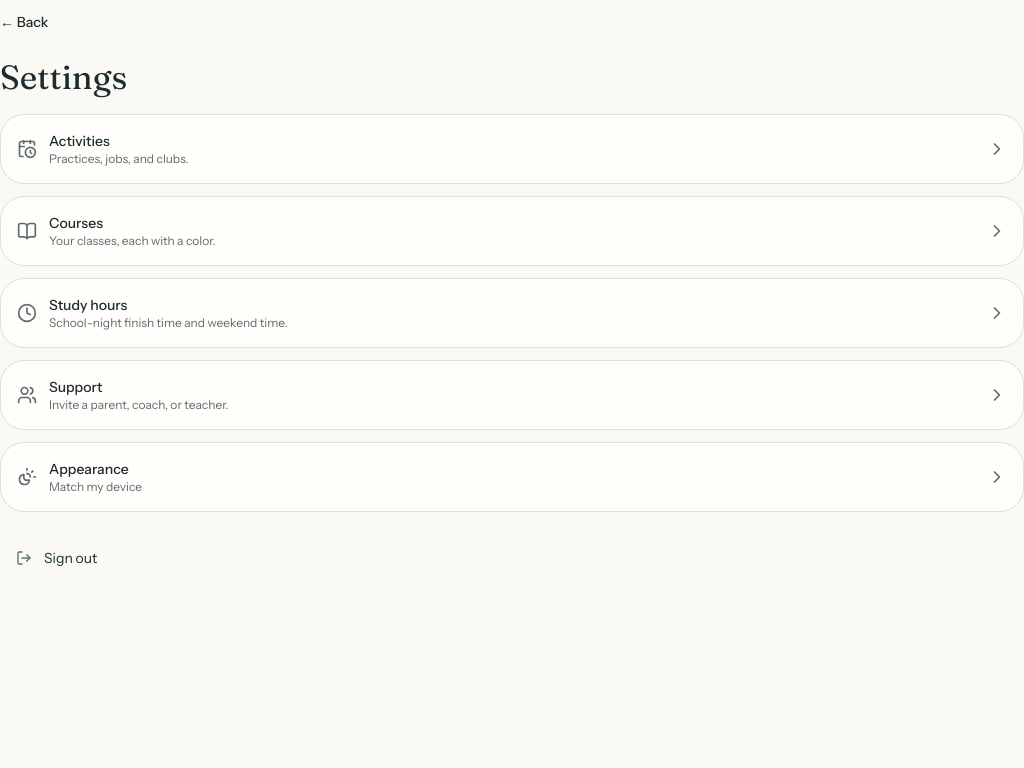
Test: SettingsPage › Appearance (docs/features/appearance-light-dark-v0.1.md) › shows the current choice, and opens a sheet with the three options
This screenshot has width=1024, height=768.
Click the button "Appearance Match my device". click: (89, 469)
box: [0,442,1023,512]
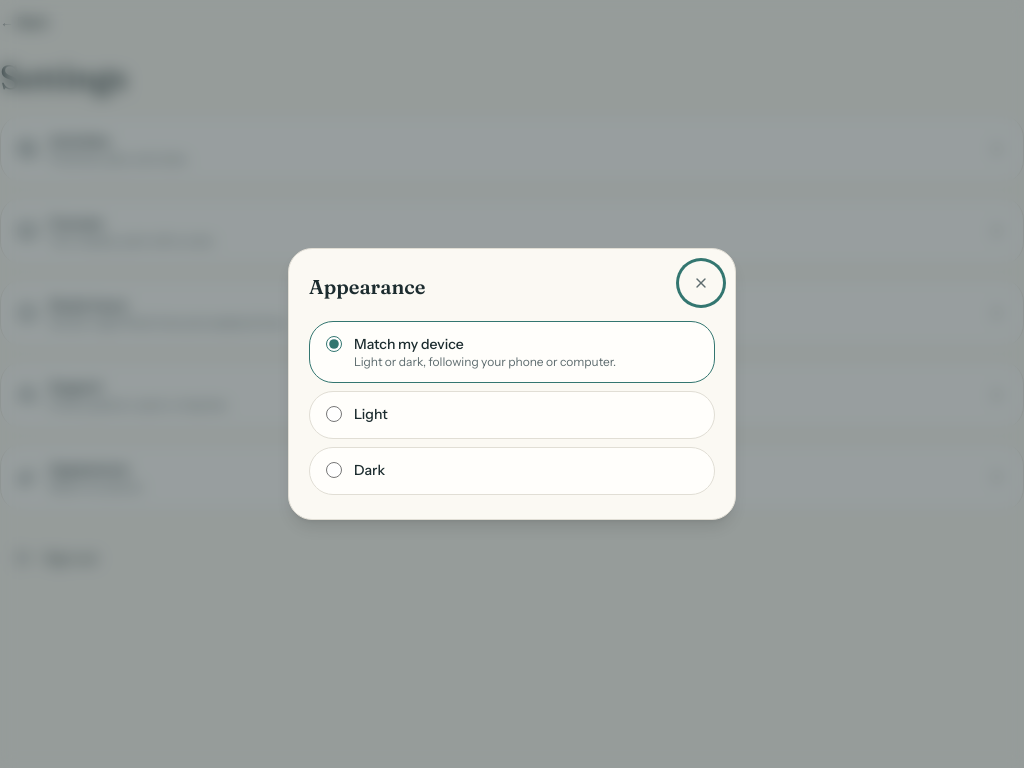
Check: the radio button labelled "Match my device" is checked, box [326,336,342,352]
Check: the element named "Appearance" is shown, box [309,321,715,495]
